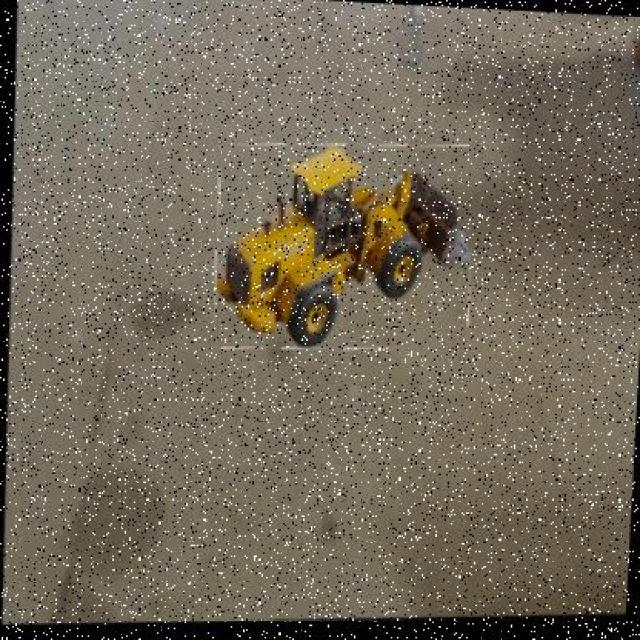buldozerpayloadergrader: (212, 141, 476, 356)
